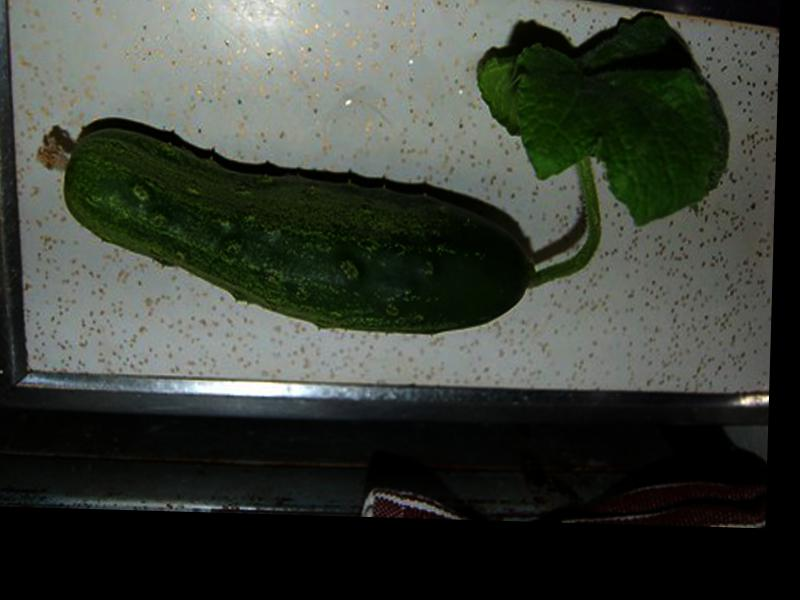Cucumber: (32, 121, 539, 338)
